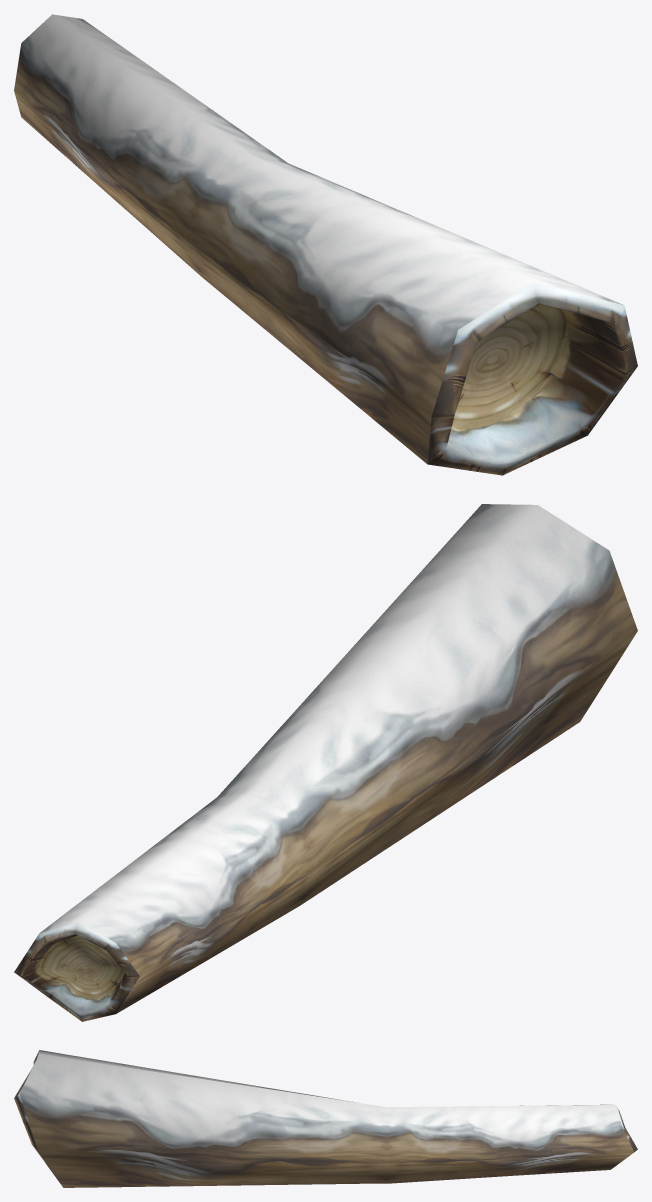
Rendered from winterspringfallentree02.obj.
3 renders of one model, top to bottom at view 1: azimuth 30°, elevation 25°; view 2: azimuth 150°, elevation 25°; view 3: azimuth 270°, elevation 25°, orthographic. The views are drawn at different scales.
Parts seen in each view (by area): view 1: Geoset0, Geoset1; view 2: Geoset0, Geoset1; view 3: Geoset0, Geoset1.
Boxes of the visible parts, x1,y1,x2,y2 form: Geoset0: (14,14,622,464); Geoset1: (427,282,637,475); Geoset0: (40,504,637,1013); Geoset1: (14,922,139,1021); Geoset0: (19,1050,634,1187); Geoset1: (14,1050,637,1183).
Bounding box in the file's own units: 2.96 × 2.96 × 12.95.
2 materials, 2 textured.
